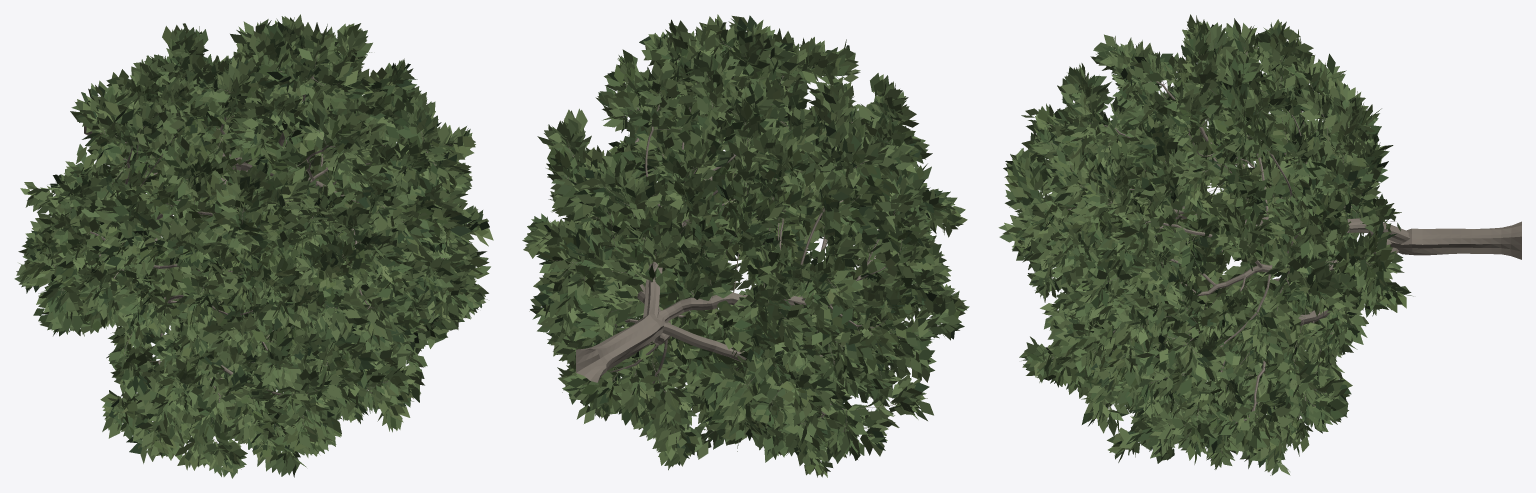
Rendered from tree_near_09.obj.
3 renders of one model, left to right at view 1: azimuth 30°, elevation 25°; view 2: azimuth 150°, elevation 25°; view 3: azimuth 270°, elevation 25°, orthographic.
Visible parts, largest first — view 1: tree_near_09; view 2: tree_near_09; view 3: tree_near_09.
Part boxes in pixels (x1,y1,x2,y2): tree_near_09: (14,14,493,478); tree_near_09: (522,14,969,477); tree_near_09: (998,14,1521,475).
Size of the model in its own units: 0.8782 by 0.9109 by 0.9987.
1 material, 1 textured.
